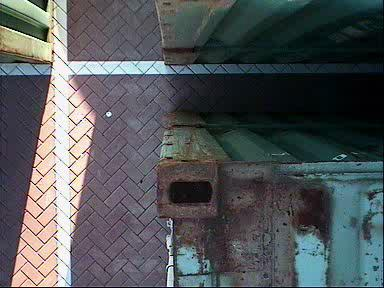groundmarker_2: (122, 13, 272, 107)
